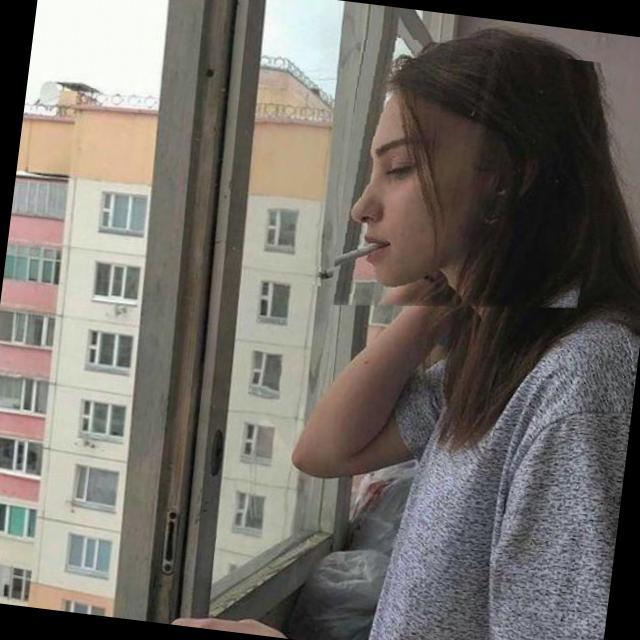cigarette: (298, 241, 399, 295)
